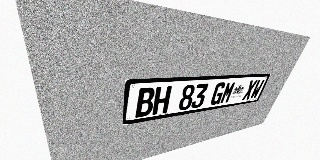3: (190, 83, 209, 109)
8: (177, 84, 197, 111)
B: (135, 87, 156, 118)
G: (209, 82, 227, 106)
H: (152, 86, 172, 115)
M: (219, 81, 237, 104)
W: (249, 79, 265, 99)
X: (241, 80, 258, 100)
